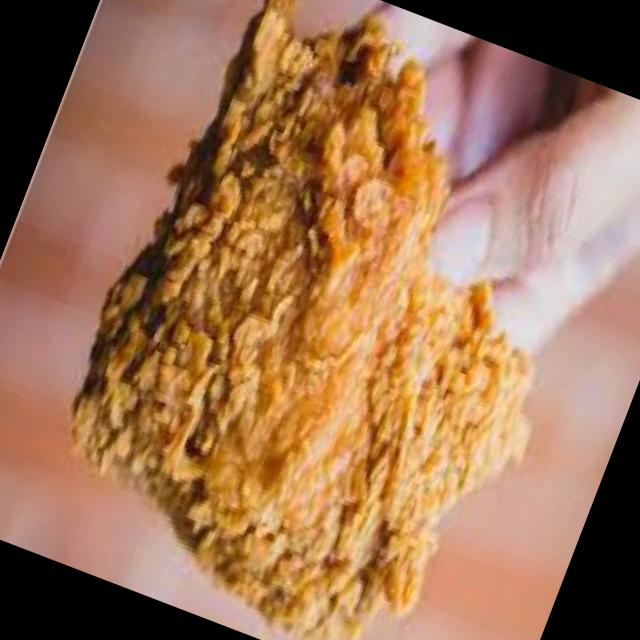Fried Chicken: (69, 0, 537, 640)
